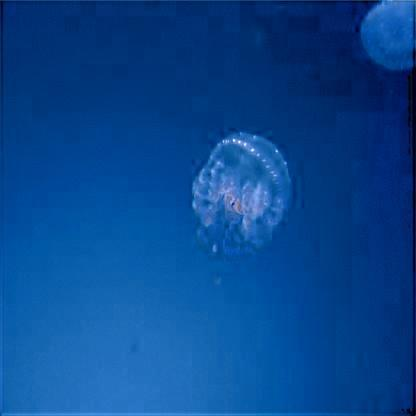LionMane: (192, 133, 292, 263), (361, 0, 416, 70)
